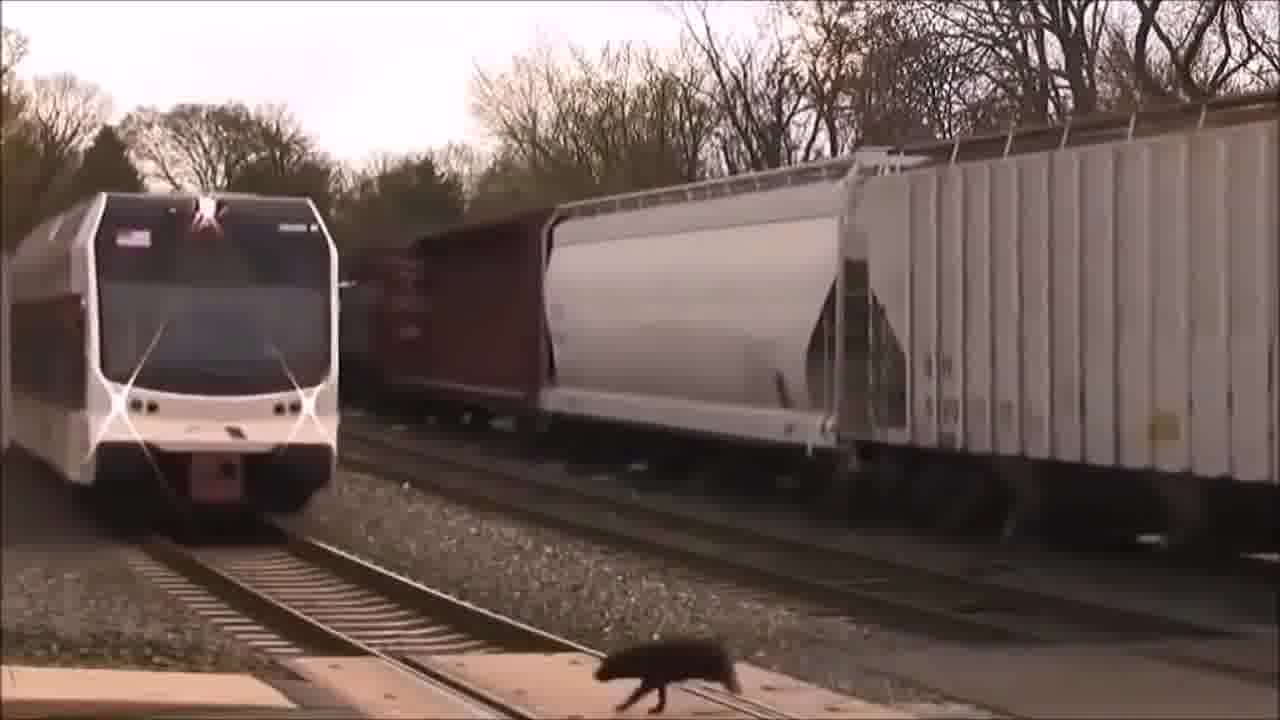crossing railway track: (379, 597, 782, 720)
